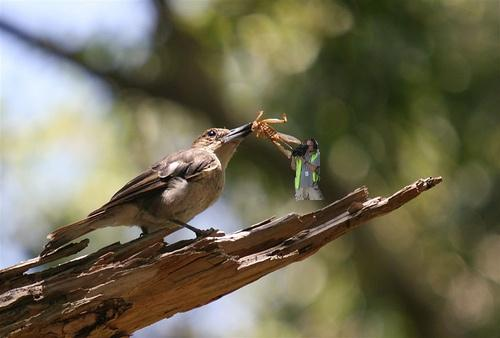tampered: (292, 140, 324, 201)
